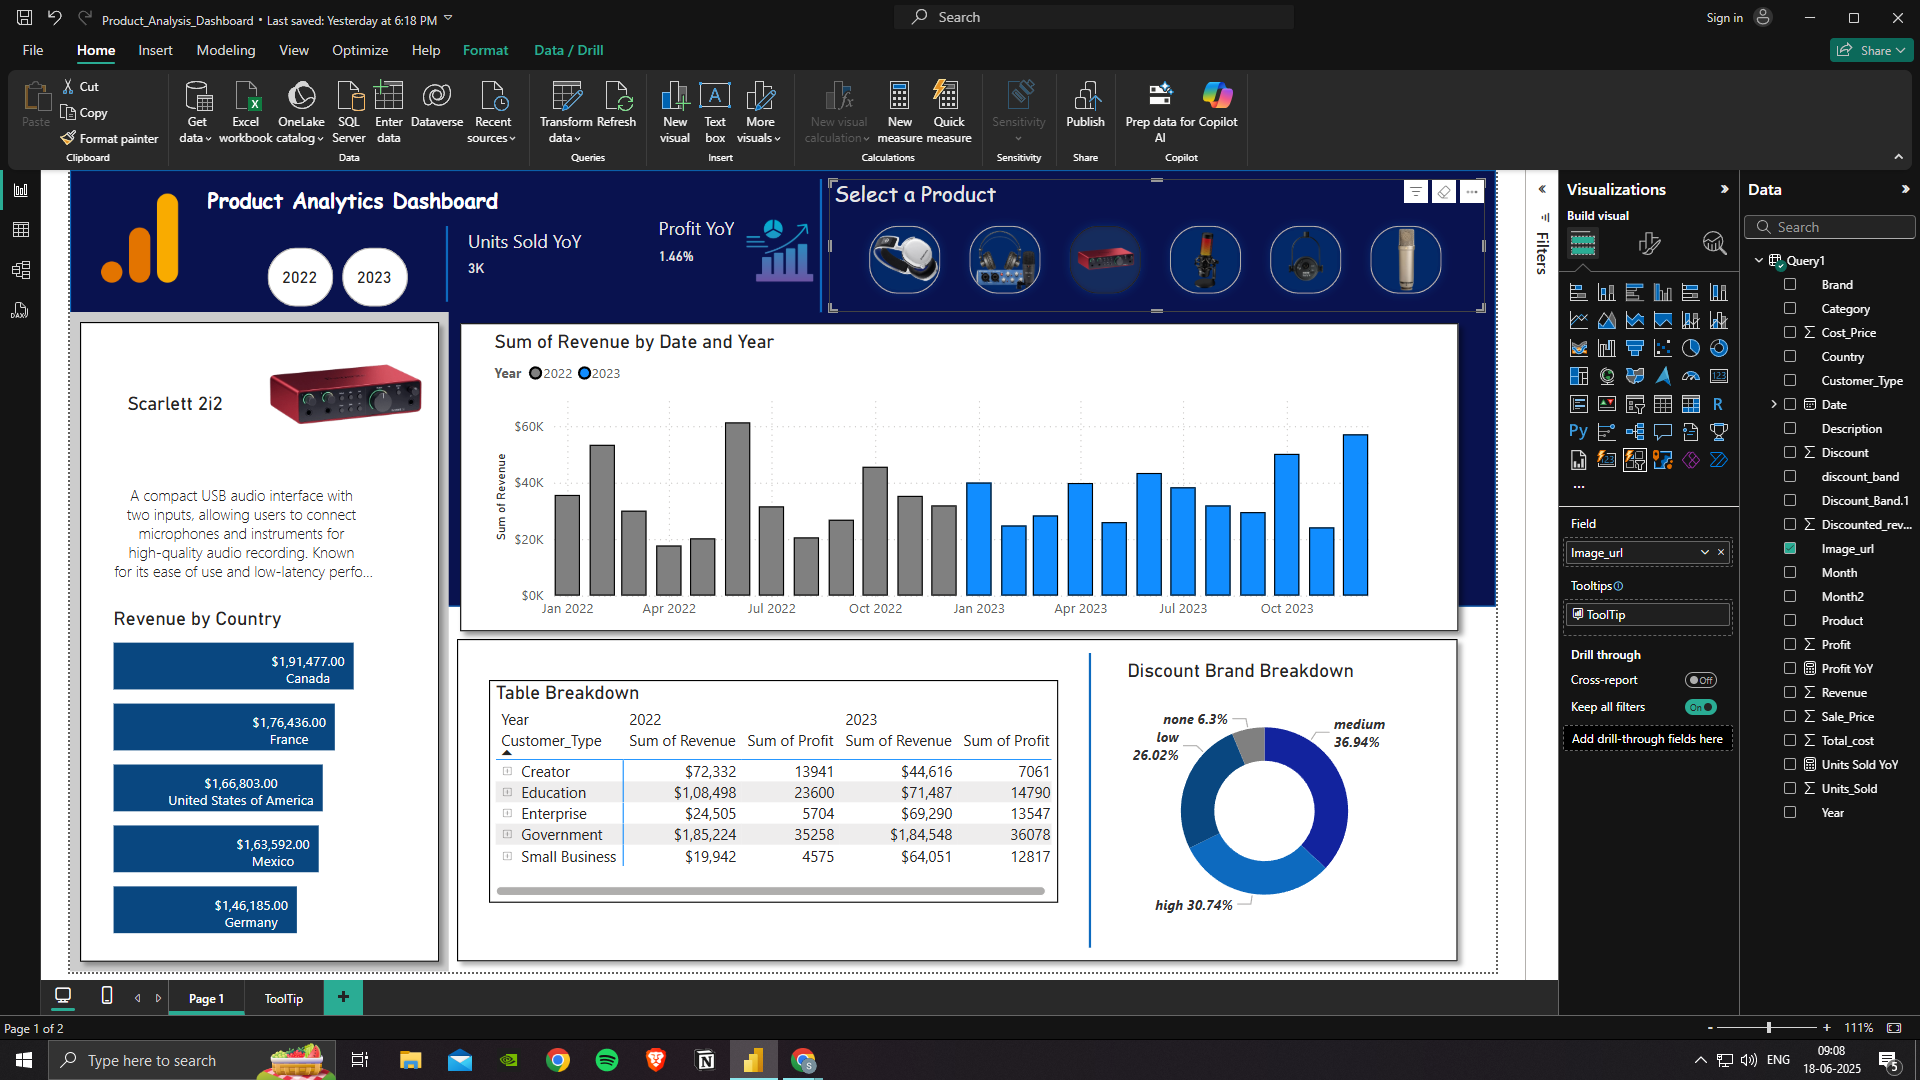

Layout of this report page (visuals, bound fields, positions):
{"tool":"powerbi","page":{"name":"Page 1","canvas":[1280,720],"ordinal":0},"visuals":[{"type":"shape","box":[0,0,1280,392],"z":0},{"type":"shape","box":[0,127.4,340.4,592.3],"z":1000},{"type":"shape","box":[340.4,127.4,916.2,296.7],"z":2000},{"type":"shape","box":[338.5,412.4,916.2,307.4],"z":3000},{"type":"advancedSlicerVisual","title":"Select a Product","fields":{"Values":["Query1.Image_url"]},"box":[681.8,7.8,588.4,119.6],"z":4000},{"type":"image","box":[17.5,16.5,90.5,90.5],"z":5000},{"type":"cardVisual","fields":{"Data":["Min(Query1.Image_url)"]},"box":[147.8,107.2,181.9,189.7],"z":6000},{"type":"card","fields":{"Values":["Min(Query1.Description)"]},"box":[34,264.6,243.2,112.8],"z":7000},{"type":"card","fields":{"Values":["Min(Query1.Product)"]},"box":[17.5,155.6,152.7,108.9],"z":8000},{"type":"clusteredBarChart","title":"Revenue by Country","fields":{"Category":["Query1.Country"],"Y":["Sum(Query1.Revenue)"]},"box":[34,392,286,299.6],"z":9000},{"type":"columnChart","fields":{"Y":["Sum(Query1.Revenue)"],"Category":["Query1.Date"],"Series":["Query1.Year"]},"box":[376.4,144,808.3,268.4],"z":10000},{"type":"donutChart","title":"Discount Brand Breakdown","fields":{"Category":["Query1.Discount_Band.1"],"Y":["Sum(Query1.Revenue)"]},"box":[944.4,438.7,255.8,253.9],"z":11000},{"type":"pivotTable","title":"Table Breakdown","fields":{"Values":["Sum(Query1.Revenue)","Sum(Query1.Profit)"],"Columns":["Query1.Year"],"Rows":["Query1.Customer_Type","Query1.Product"]},"box":[376.4,458.1,510.6,200.4],"z":12000},{"type":"shape","box":[887.1,433.8,57.4,264.6],"z":13000},{"type":"cardVisual","fields":{"Data":["Sum(Query1.Units_Sold)","Query1.Profit YoY"]},"box":[340.4,20.4,345,107],"z":14000},{"type":"advancedSlicerVisual","fields":{"Values":["Query1.Date.Variation.Date Hierarchy.Year"]},"box":[172.2,64.2,204.3,63.2],"z":15000},{"type":"shape","box":[645.8,7.8,57.4,119.6],"z":15001},{"type":"shape","box":[309.3,50.6,57.4,68.1],"z":15002},{"type":"textbox","box":[118.7,7.8,312.2,42.8],"z":15003}]}

Visuals, with their boxes on the page's 1280x720 design canvas (x1, y1, x2, y2). These are canvas units, not pixel positions in the 1920x1080 screenshot, which may show the page scaled, cropped or inside an application window:
shape: [0,0,1280,392]
shape: [0,127,340,720]
shape: [340,127,1257,424]
shape: [338,412,1255,720]
"Select a Product" advancedSlicerVisual: [682,8,1270,127]
image: [18,16,108,107]
cardVisual - Min(Query1.Image_url): [148,107,330,297]
card - Min(Query1.Description): [34,265,277,377]
card - Min(Query1.Product): [18,156,170,264]
"Revenue by Country" clusteredBarChart: [34,392,320,692]
columnChart - Sum(Query1.Revenue) x Query1.Date: [376,144,1185,412]
"Discount Brand Breakdown" donutChart: [944,439,1200,693]
"Table Breakdown" pivotTable: [376,458,887,658]
shape: [887,434,944,698]
cardVisual - Sum(Query1.Units_Sold) x Query1.Profit YoY: [340,20,685,127]
advancedSlicerVisual - Query1.Date.Variation.Date Hierarchy.Year: [172,64,376,127]
shape: [646,8,703,127]
shape: [309,51,367,119]
textbox: [119,8,431,51]
